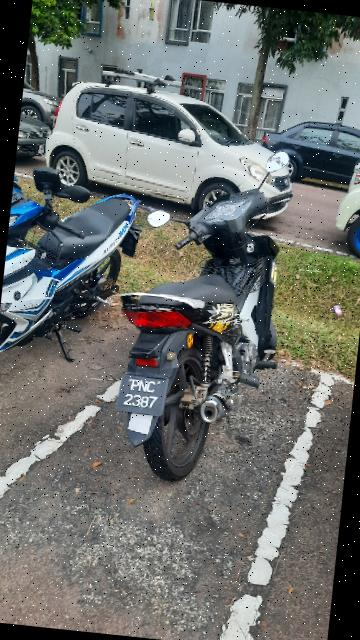License_Plate: (115, 373, 172, 419)
car: (39, 56, 309, 233), (252, 99, 360, 215)
motorcycle: (90, 119, 290, 502), (1, 141, 167, 393)
